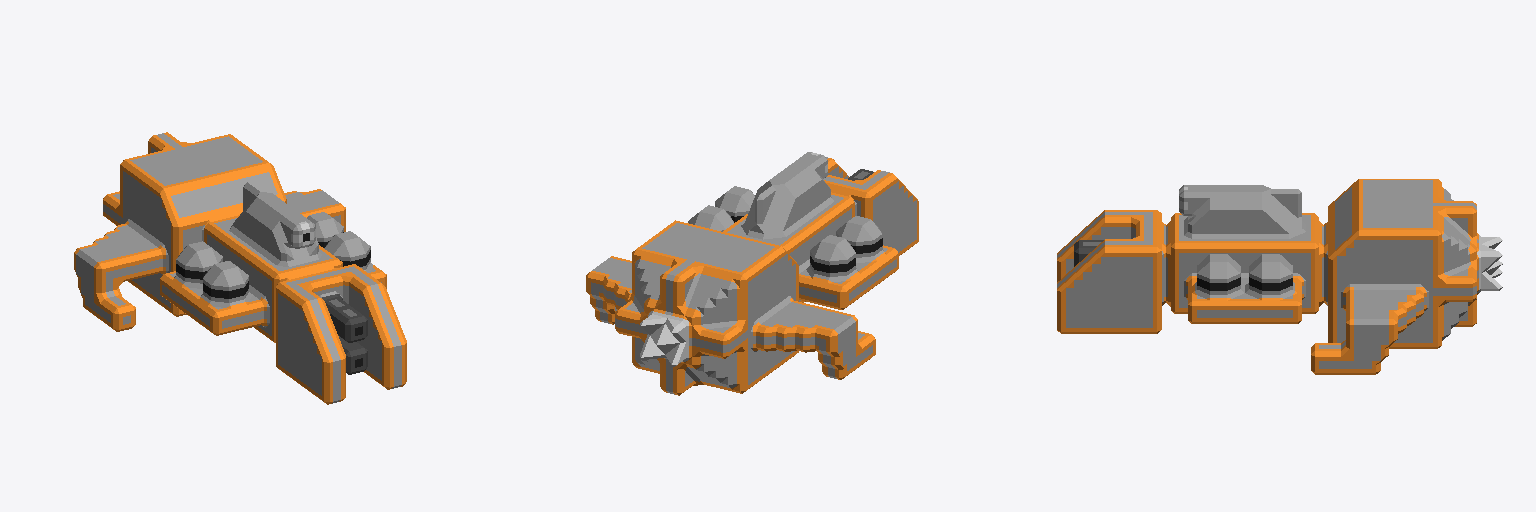
3 views of the same model, side by side, from view 1: azimuth 30°, elevation 25°; view 2: azimuth 150°, elevation 25°; view 3: azimuth 270°, elevation 25° (orthographic).
Bounding box in the file's own units: 33 × 17 × 51.
1 materials, 1 textured.